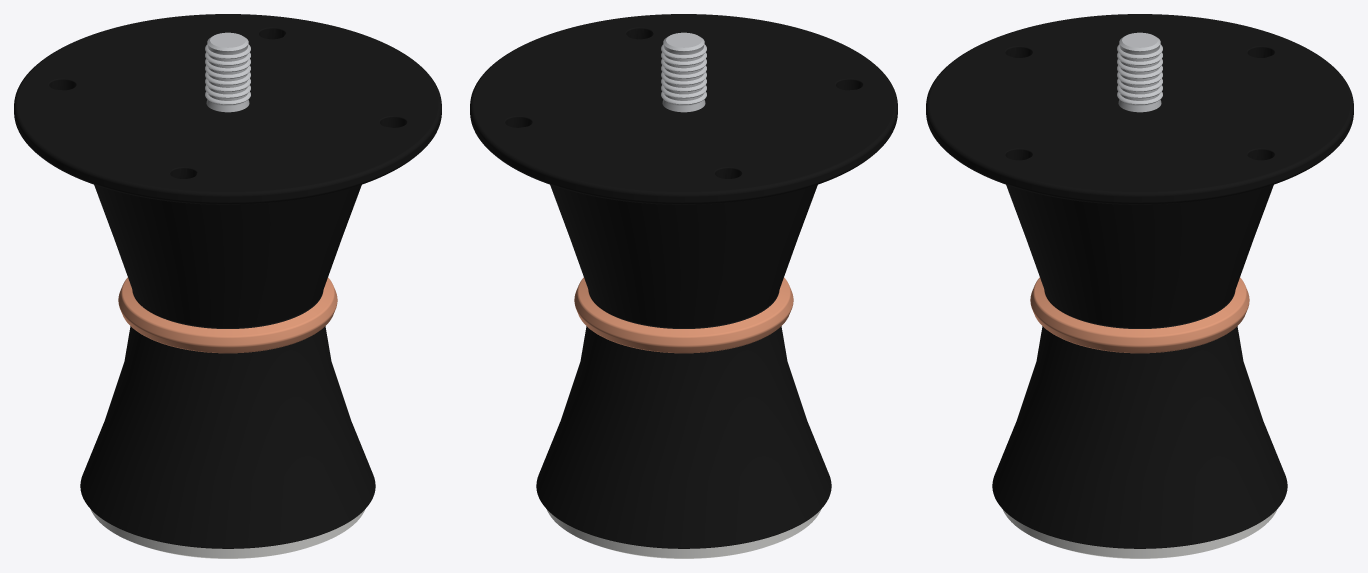
The model's file is sofa-legs-1267.glb.
3 renders of one model, left to right at view 1: azimuth 30°, elevation 25°; view 2: azimuth 150°, elevation 25°; view 3: azimuth 270°, elevation 25°, orthographic.
Visible parts, largest first — view 1: Body, Plate, Stud, Glide; view 2: Body, Plate, Stud, Glide; view 3: Body, Plate, Stud, Glide.
Boxes of the visible parts, <box> form: Body: <box>80,184,375,548</box>; Plate: <box>14,14,441,204</box>; Stud: <box>205,32,250,112</box>; Glide: <box>91,510,364,558</box>; Body: <box>536,184,831,548</box>; Plate: <box>470,14,897,204</box>; Stud: <box>661,32,706,112</box>; Glide: <box>547,510,820,558</box>; Body: <box>992,184,1287,548</box>; Plate: <box>926,14,1353,204</box>; Stud: <box>1117,32,1162,112</box>; Glide: <box>1003,510,1276,558</box>.
Size of the model in its own units: 0.074 by 0.0882 by 0.074.
